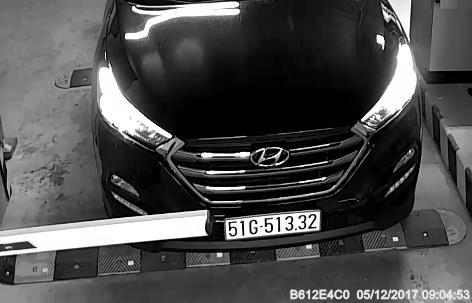License-plate: (221, 208, 329, 243)
